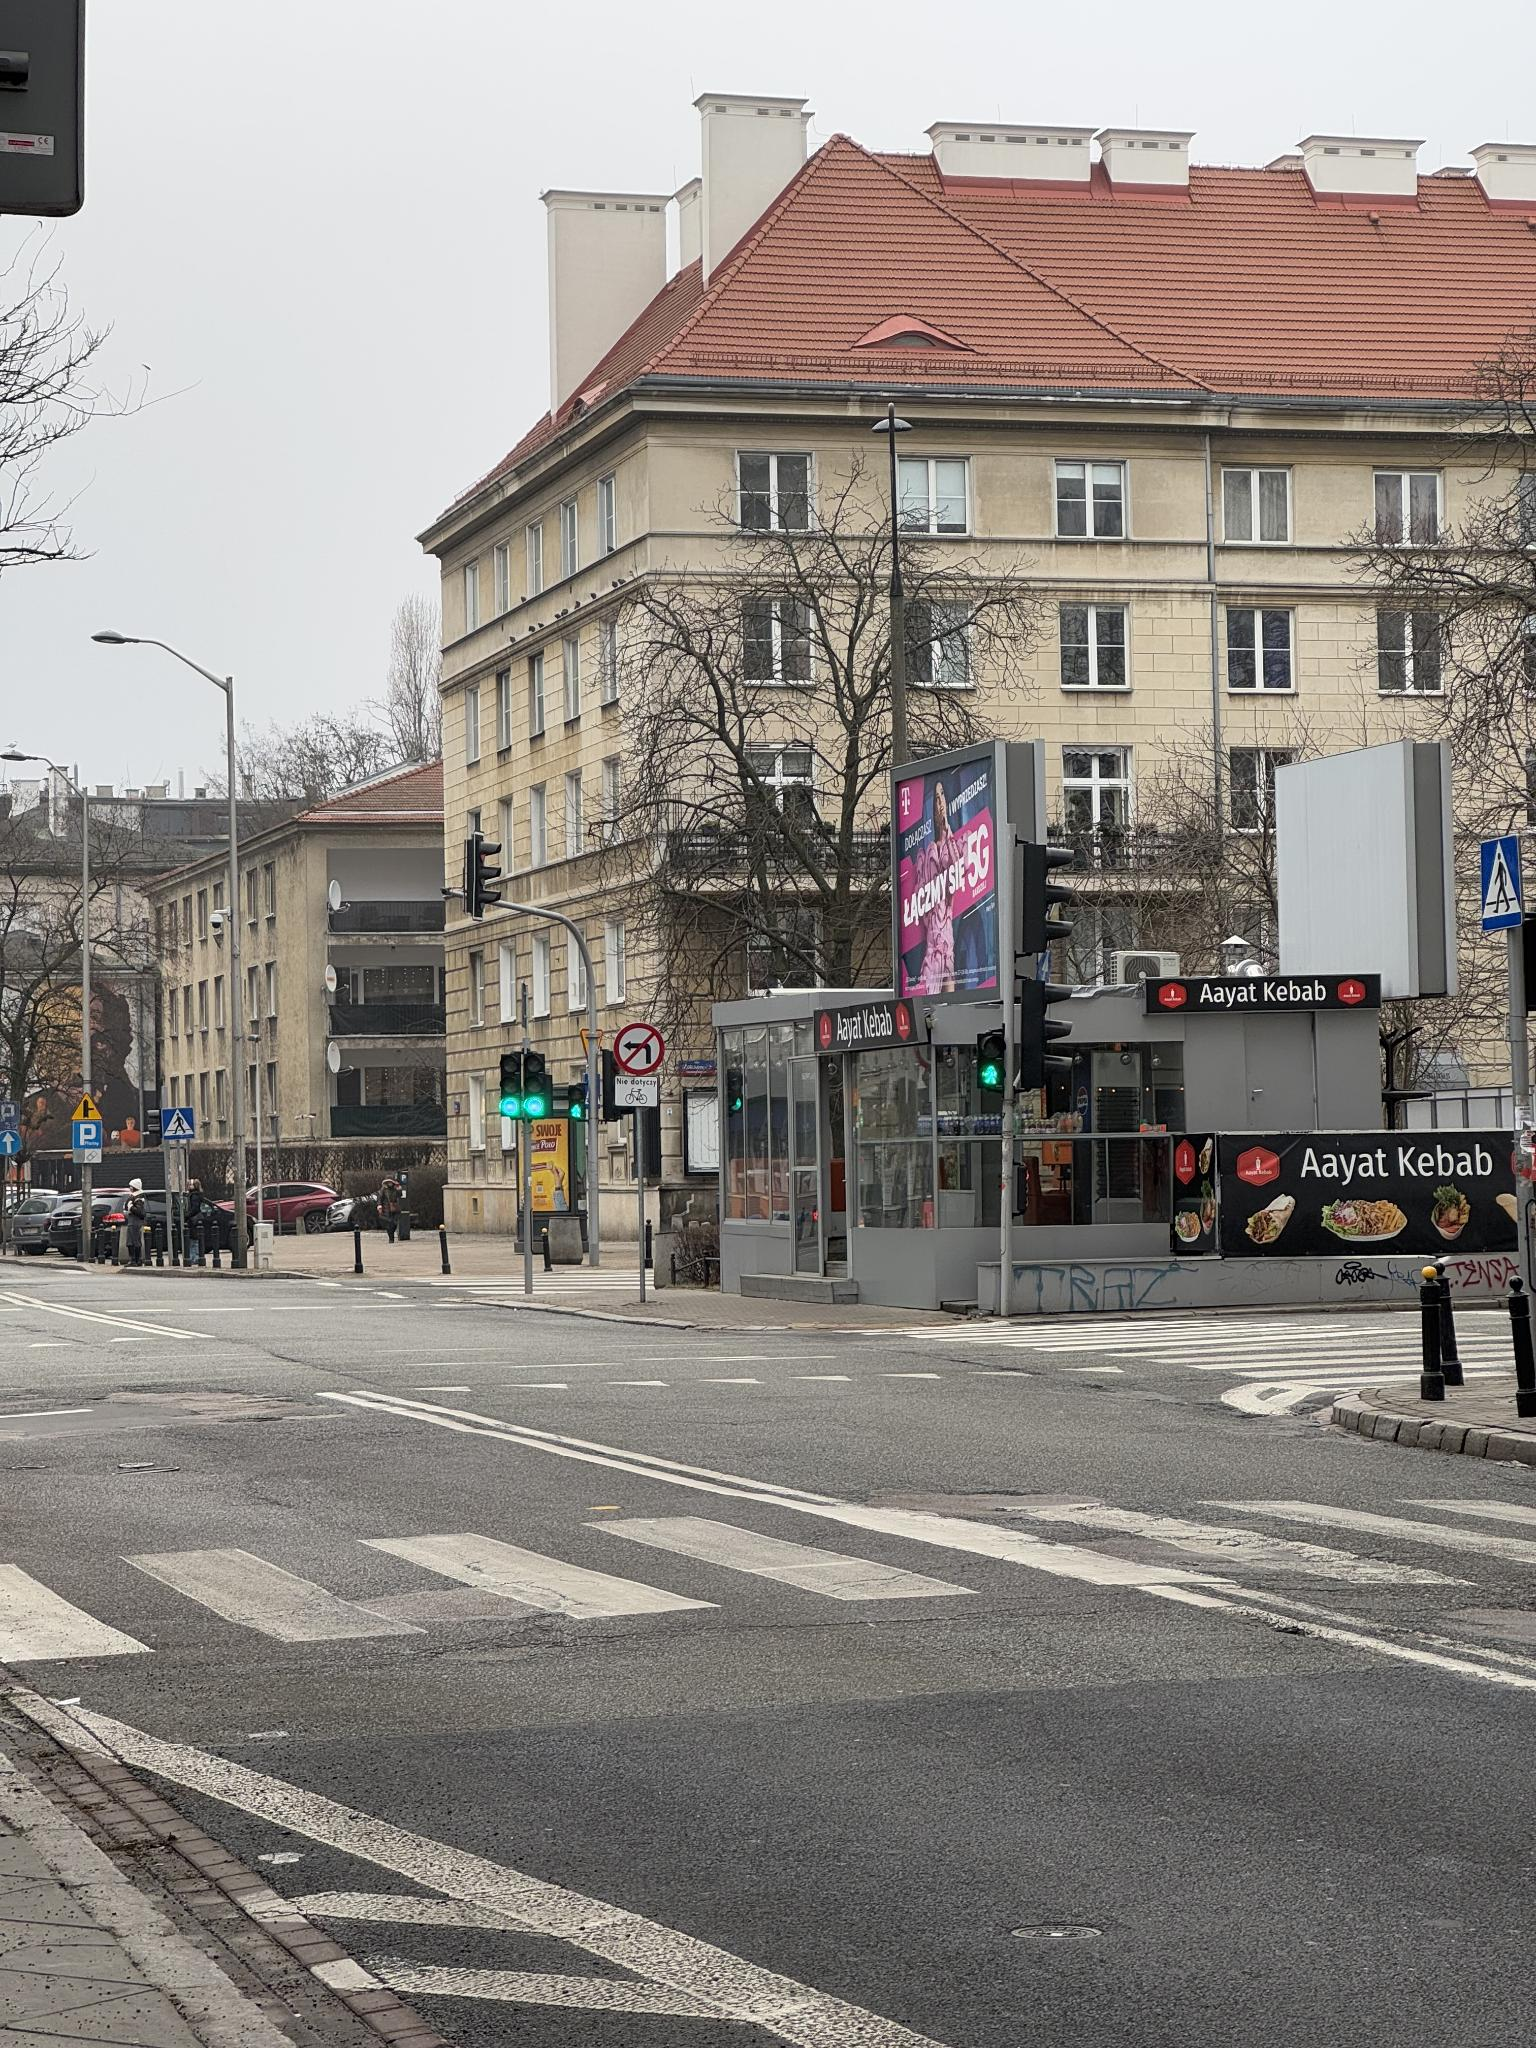information: (1478, 834, 1525, 932), (160, 1106, 195, 1140), (73, 1121, 102, 1148), (0, 1100, 19, 1129)
mandatory: (0, 1130, 23, 1156)
other: (615, 1077, 658, 1108), (73, 1148, 103, 1164)
prohibitory: (613, 1022, 665, 1076)
warning: (71, 1092, 103, 1121)
